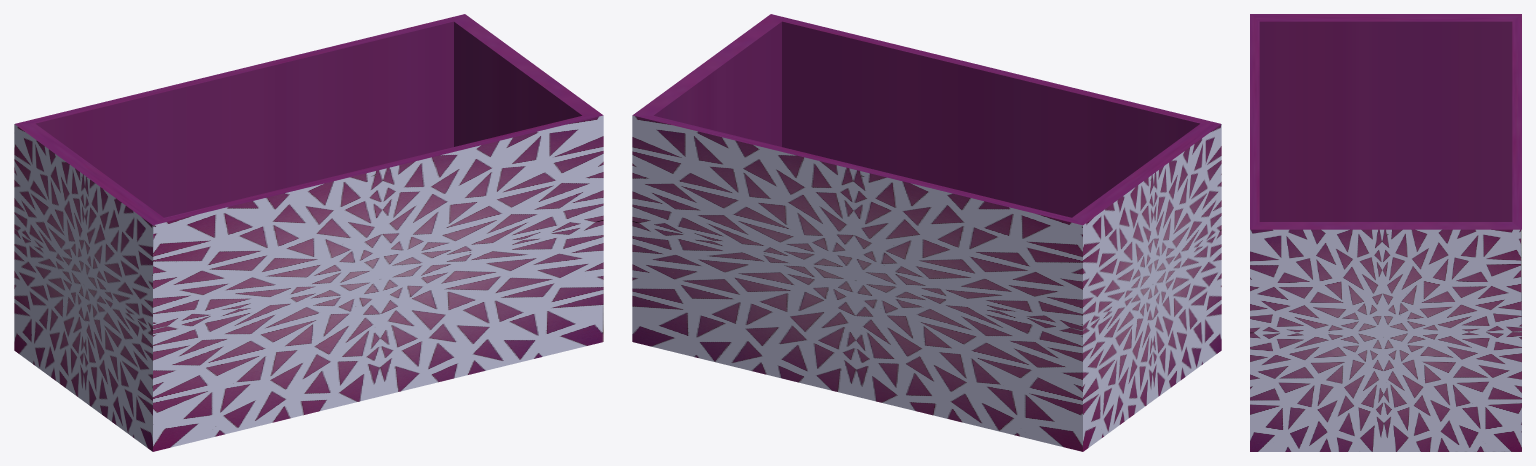
Rendered from scatola2.fbx.
3 renders of one model, left to right at view 1: azimuth 30°, elevation 25°; view 2: azimuth 150°, elevation 25°; view 3: azimuth 270°, elevation 25°, orthographic.
Visible parts, largest first — view 1: scatola2; view 2: scatola2; view 3: scatola2.
Boxes of the visible parts, <box> form: scatola2: <box>14,14,603,451</box>; scatola2: <box>632,14,1221,451</box>; scatola2: <box>1250,14,1521,451</box>.
Bounding box in the file's own units: 67.1 × 32.24 × 35.72.
